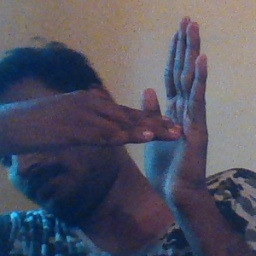Z: (87, 12, 213, 188)
